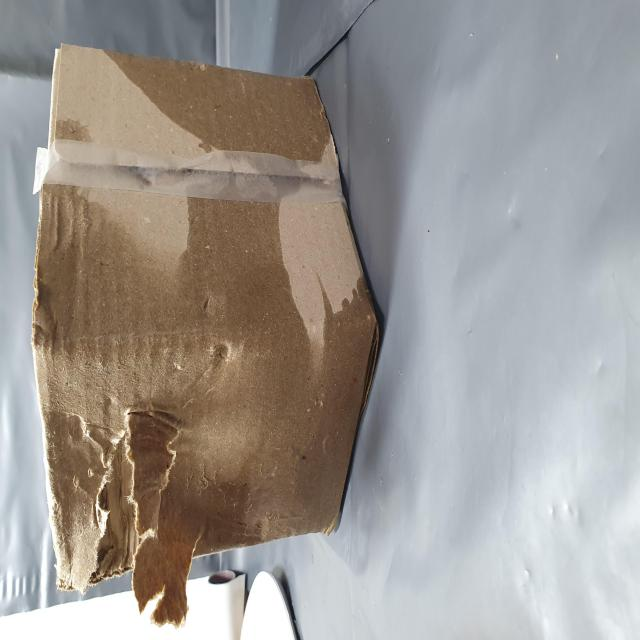wet: (20, 68, 347, 640)
